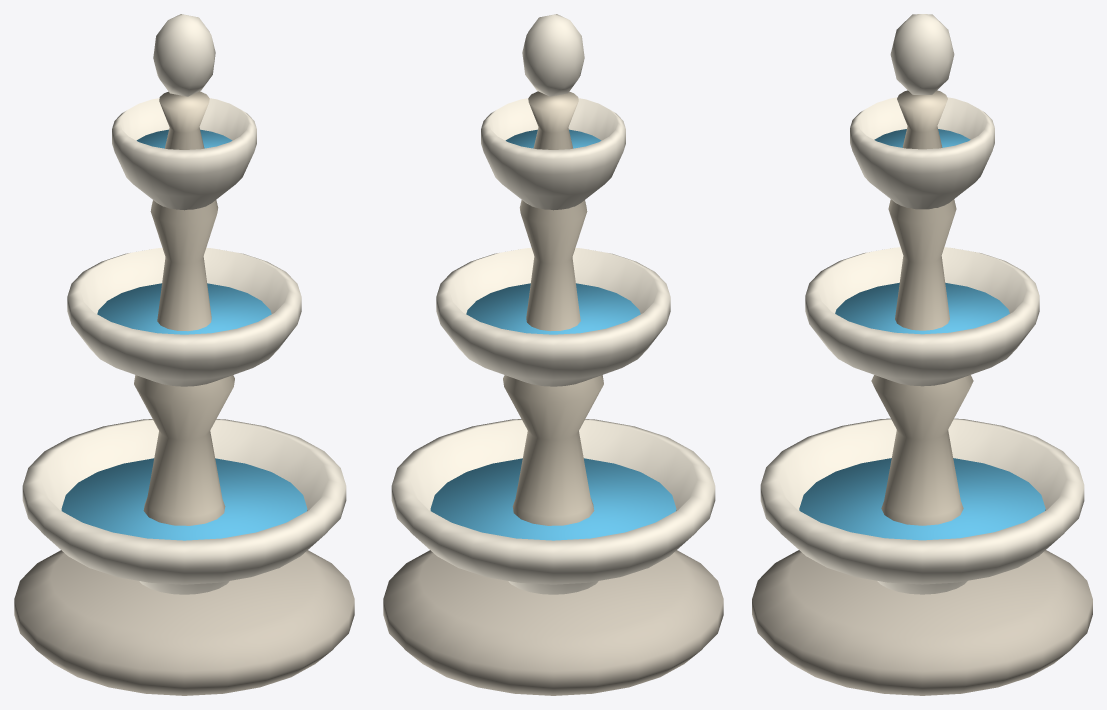
Rendered from prop_statue.glb.
3 renders of one model, left to right at view 1: azimuth 30°, elevation 25°; view 2: azimuth 150°, elevation 25°; view 3: azimuth 270°, elevation 25°, orthographic.
Visible parts, largest first — view 1: structure.009; view 2: structure.009; view 3: structure.009.
Part boxes in pixels (box(x1,y1,x2,y2)): structure.009: box(14, 14, 354, 695); structure.009: box(383, 14, 723, 695); structure.009: box(752, 14, 1092, 695).
Size of the model in its own units: 1.6 by 3.2 by 1.6.
